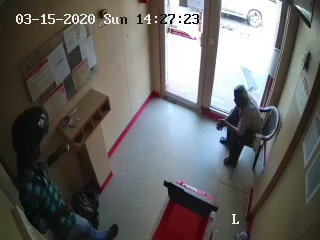helmet: (4, 103, 57, 166)
